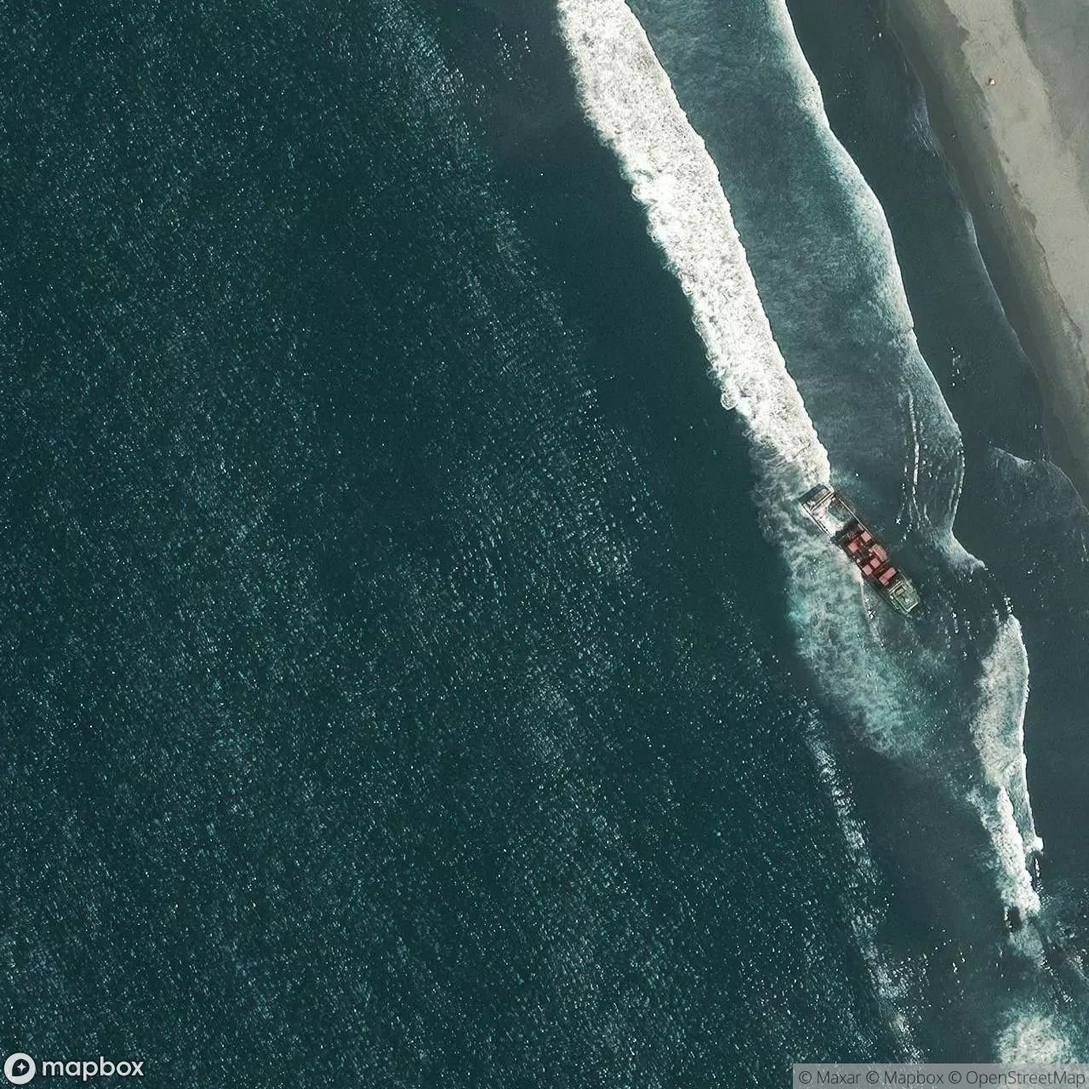Wreck: (772, 463, 944, 624)
